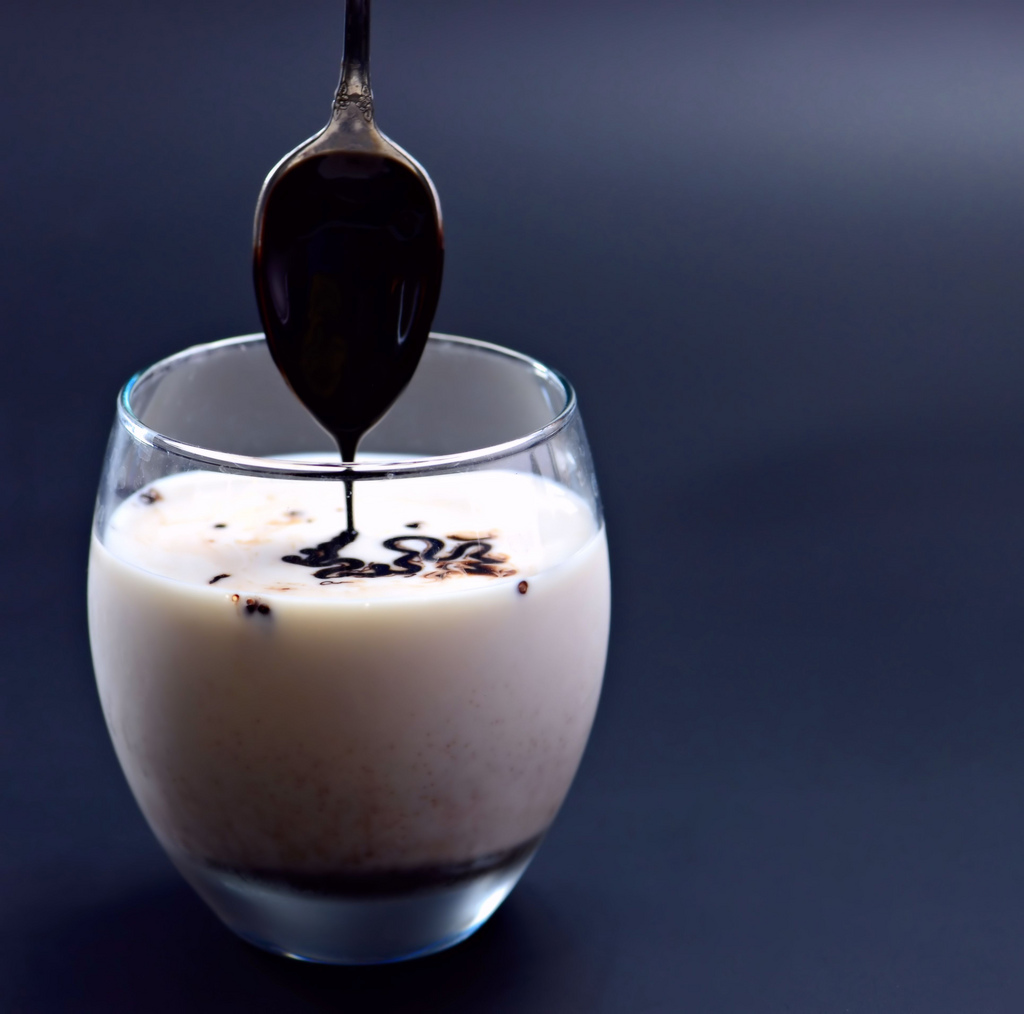glass of milk: (91, 314, 645, 971)
